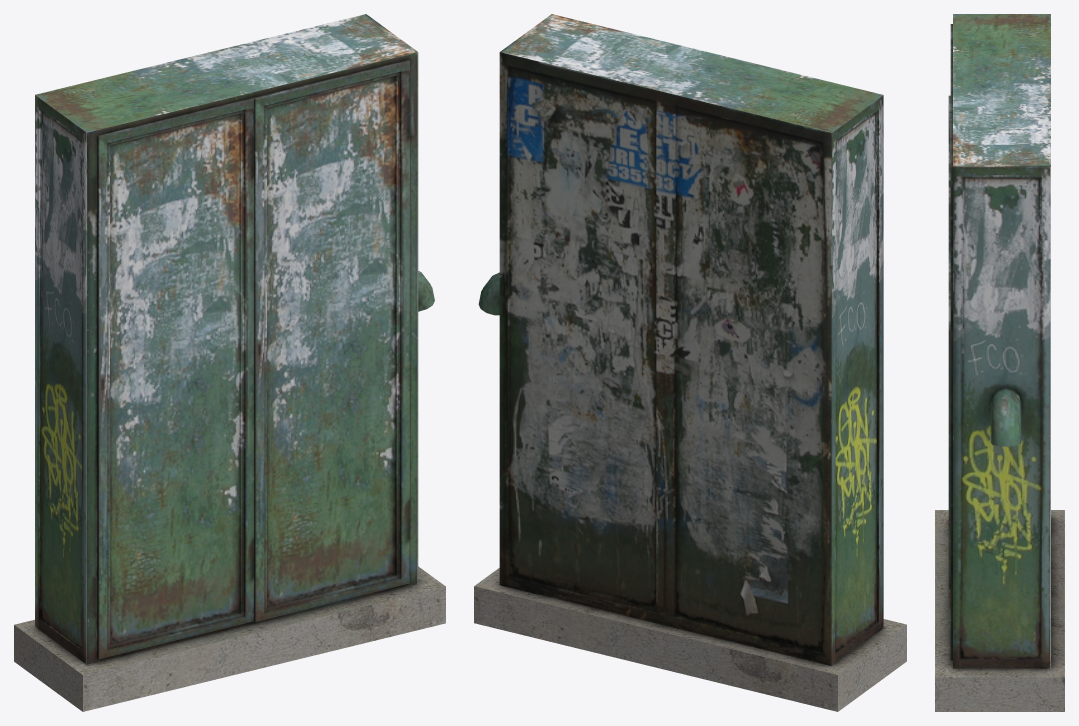
File: electrical_panel_c.glb
3 renders of one model, left to right at view 1: azimuth 30°, elevation 25°; view 2: azimuth 150°, elevation 25°; view 3: azimuth 270°, elevation 25°, orthographic. The views are drawn at different scales.
Parts seen in each view (by area): view 1: panel_04, panel_04_stand; view 2: panel_04, panel_04_stand; view 3: panel_04, panel_04_stand.
Boxes of the visible parts, x1,y1,x2,y2 form: panel_04: [35, 14, 434, 664]; panel_04_stand: [14, 566, 445, 711]; panel_04: [478, 14, 883, 666]; panel_04_stand: [474, 568, 906, 711]; panel_04: [948, 14, 1050, 668]; panel_04_stand: [935, 510, 1064, 711].
Bounding box in the file's own units: 1.1 × 1.54 × 0.3379.
Materials: 2 (2 with a texture image).
